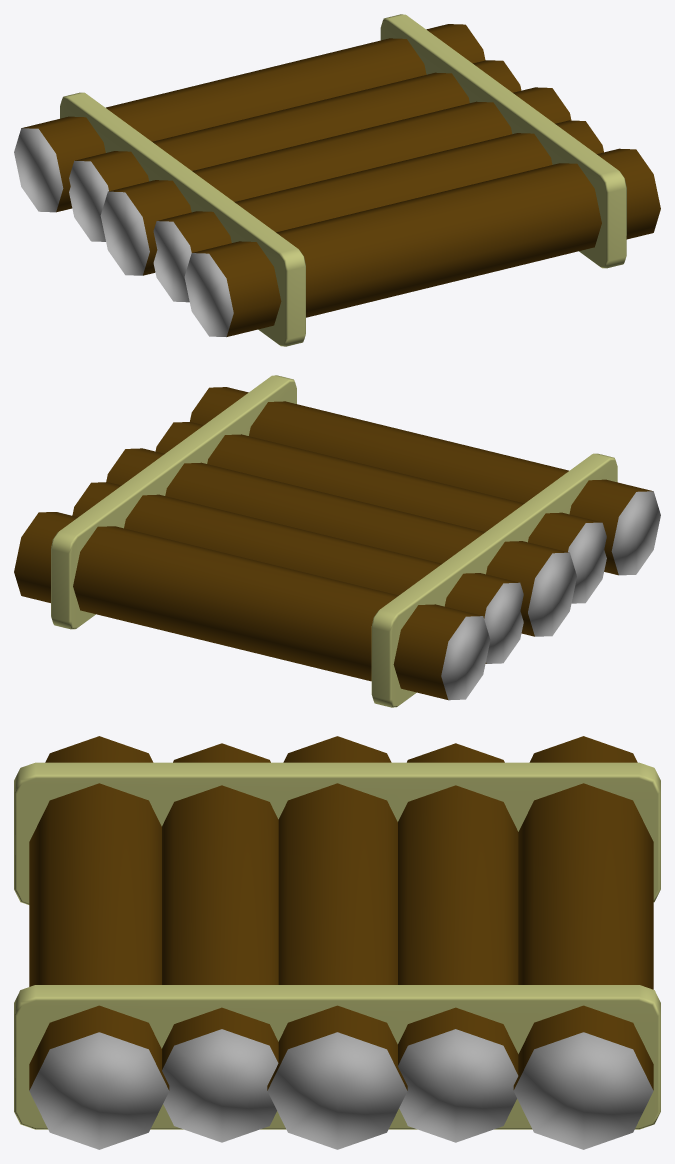
The model's file is ElevatorPlatform.fbx.
3 views of the same model, one above another, from view 1: azimuth 30°, elevation 25°; view 2: azimuth 150°, elevation 25°; view 3: azimuth 270°, elevation 25° (orthographic). The views are drawn at different scales.
Parts seen in each view (by area): view 1: Log2, Log4, ElevatorPlatform, Log1, Log3, Rope1, Rope2; view 2: Log4, Log2, ElevatorPlatform, Log3, Log1, Rope2, Rope1; view 3: Log4, Log2, ElevatorPlatform, Log3, Log1, Rope1, Rope2.
Boxes of the visible parts, box(x1,y1,x2,y2) form: Log2: box(184, 148, 660, 337); Log4: box(14, 24, 485, 212); ElevatorPlatform: box(100, 87, 571, 275); Log1: box(153, 120, 603, 302); Log3: box(69, 60, 521, 241); Rope1: box(380, 14, 626, 268); Rope2: box(60, 92, 305, 346); Log4: box(14, 512, 490, 700); Log2: box(190, 387, 660, 575); ElevatorPlatform: box(106, 448, 576, 636); Log3: box(72, 482, 523, 663); Log1: box(155, 422, 606, 603); Rope2: box(371, 453, 617, 707); Rope1: box(51, 375, 296, 629); Log4: box(513, 736, 653, 1149); Log2: box(29, 736, 169, 1149); ElevatorPlatform: box(267, 736, 407, 1149); Log3: box(398, 743, 518, 1142); Log1: box(162, 743, 278, 1142); Rope1: box(14, 985, 660, 1129); Rope2: box(14, 762, 660, 904).
Size of the model in its own units: 2.16 by 0.4528 by 1.99.
